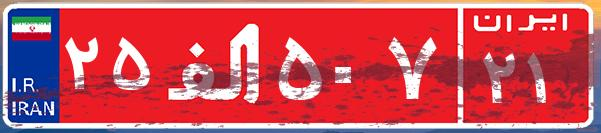0: (330, 28, 385, 110)
1: (525, 38, 570, 115)
2: (57, 26, 110, 107), (475, 38, 525, 113)
5: (273, 28, 330, 110), (110, 28, 158, 105)
7: (385, 28, 445, 110)
الف: (158, 15, 273, 115)
